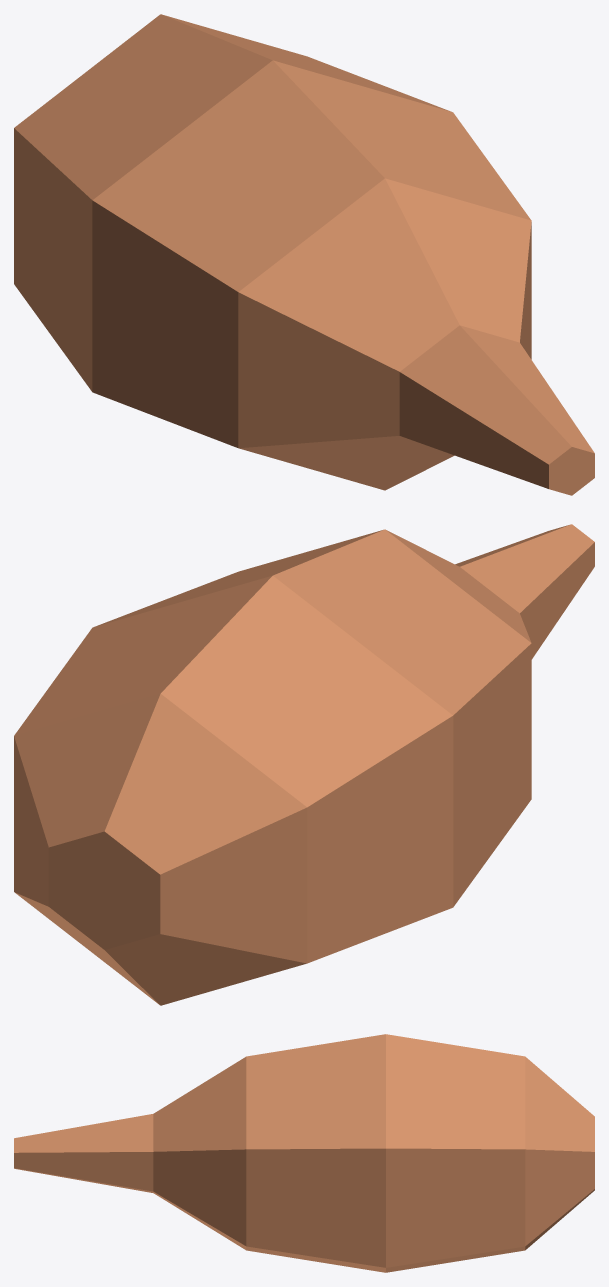
Rendered from shallot.obj.
3 views of the same model, one above another, from view 1: azimuth 30°, elevation 25°; view 2: azimuth 150°, elevation 25°; view 3: azimuth 270°, elevation 25° (orthographic). The views are drawn at different scales.
Visible parts, largest first — view 1: onion; view 2: onion; view 3: onion.
Boxes of the visible parts, <box> form: onion: <box>14,14,594,495</box>; onion: <box>14,524,594,1005</box>; onion: <box>14,1034,594,1272</box>.
Bounding box in the file's own units: 0.1422 × 0.1447 × 0.3191.
